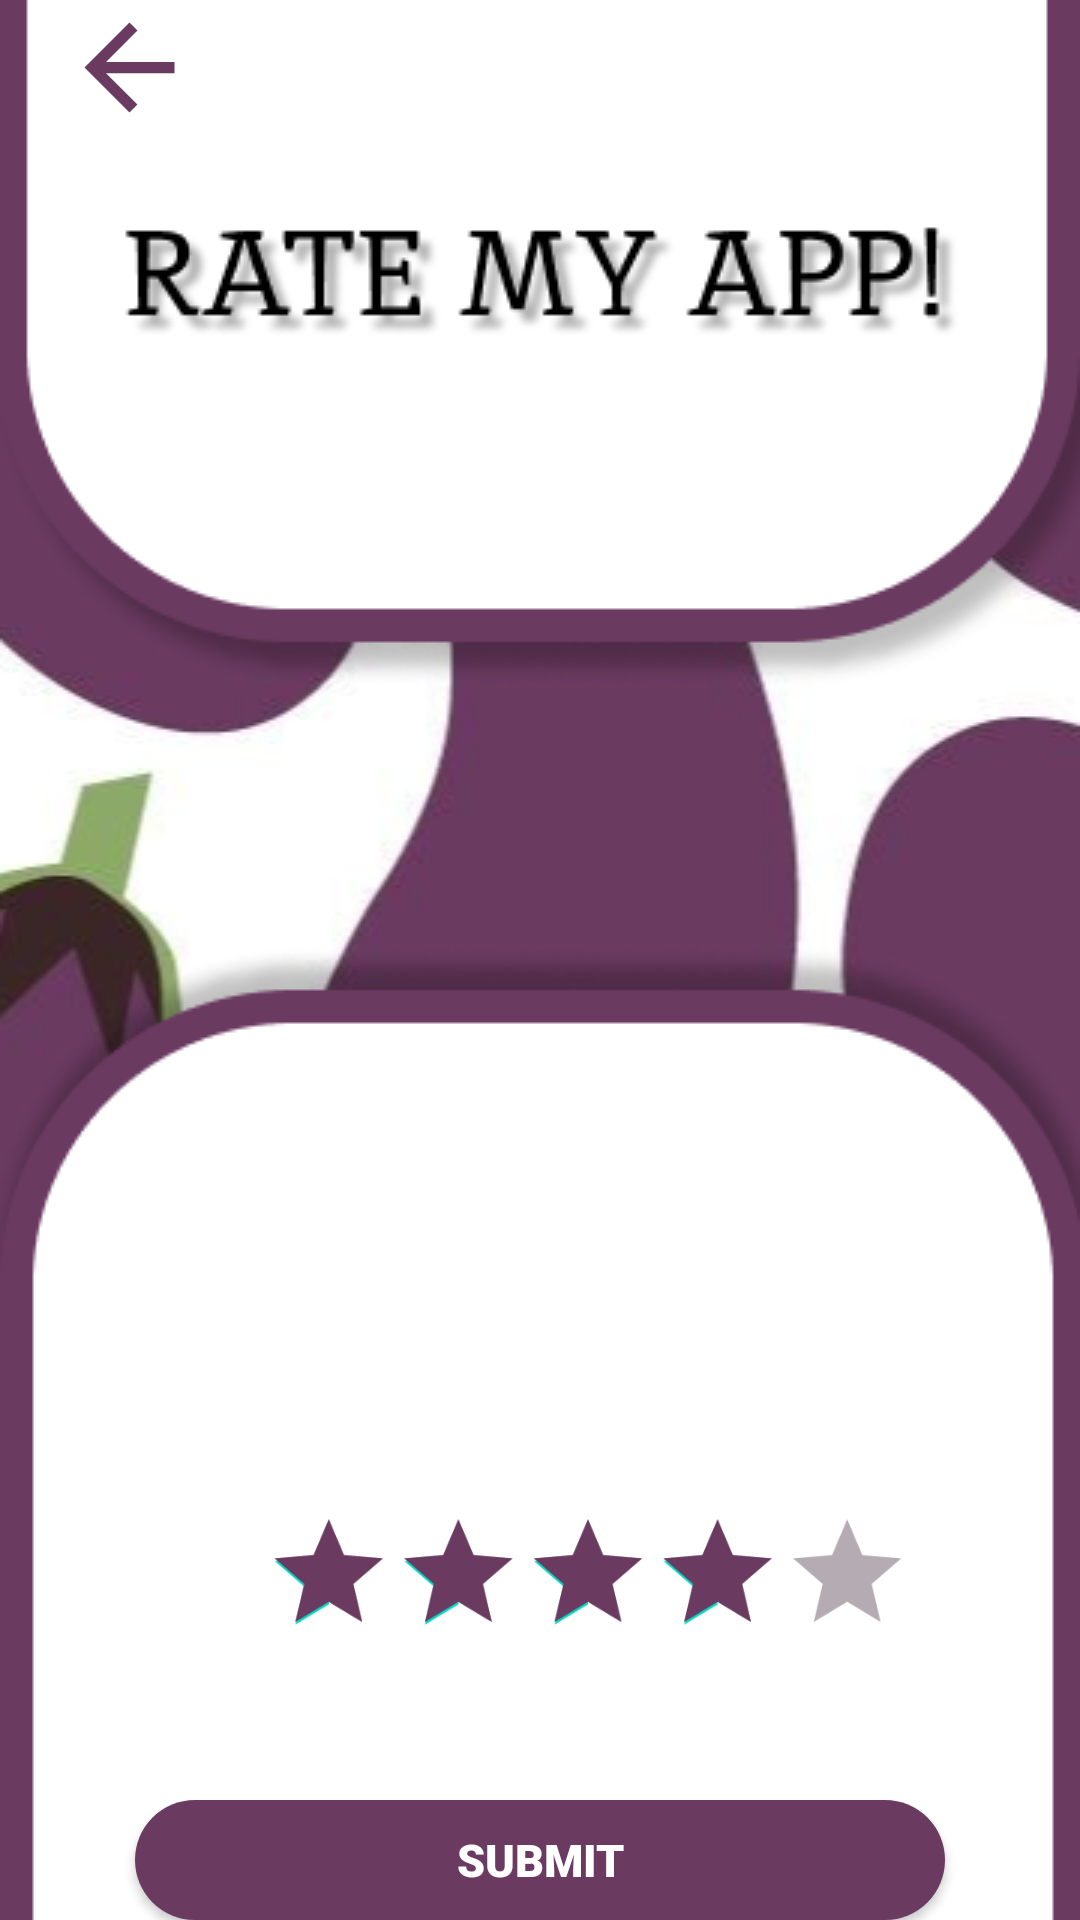

Icon bounding boxes for this 1080 x 1920 phone screenshot, format box(x1, y1, x2, y2):
arrow back: box(84, 22, 175, 113)
